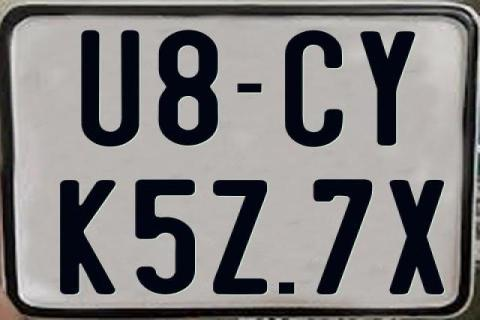0: (132, 177, 193, 297), (157, 28, 219, 144), (312, 178, 373, 294)
C: (282, 29, 342, 150)
K: (59, 179, 117, 295)
U: (79, 28, 138, 147)
X: (387, 179, 445, 297)
Y: (360, 30, 418, 146)
Z: (210, 179, 265, 295)
